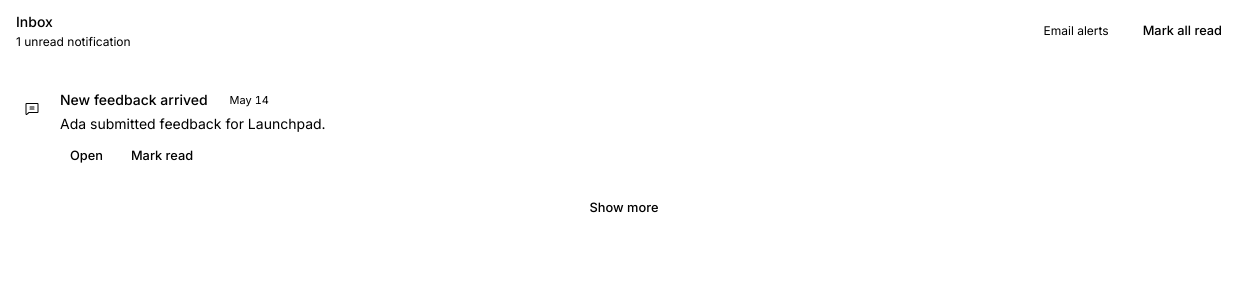
Scenario: live notifications surfaces › loads more notifications when more pages exist
Click the button "Show more" at (624, 208), box [580,194,668,222]
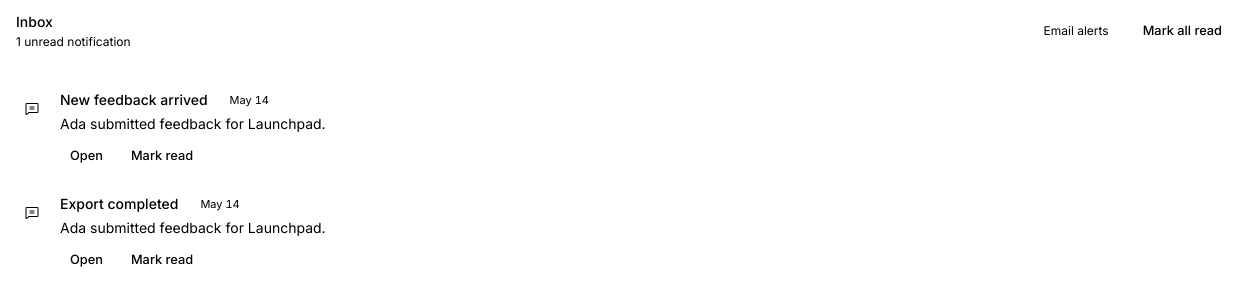
Result: the text "Export completed" is shown at [60,194,178,214]
Result: the button "Show more" is gone
